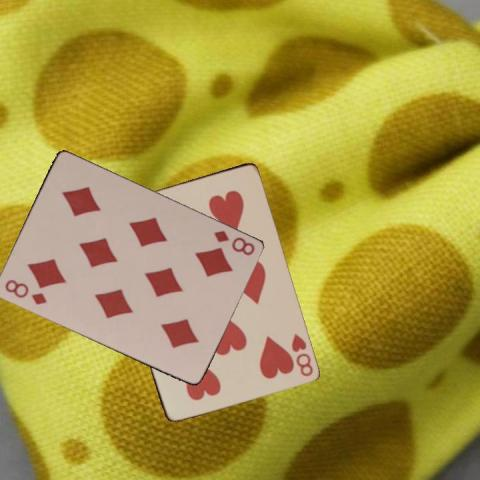8d: (1, 276, 49, 306), (210, 228, 256, 258)
8h: (288, 330, 314, 377)
